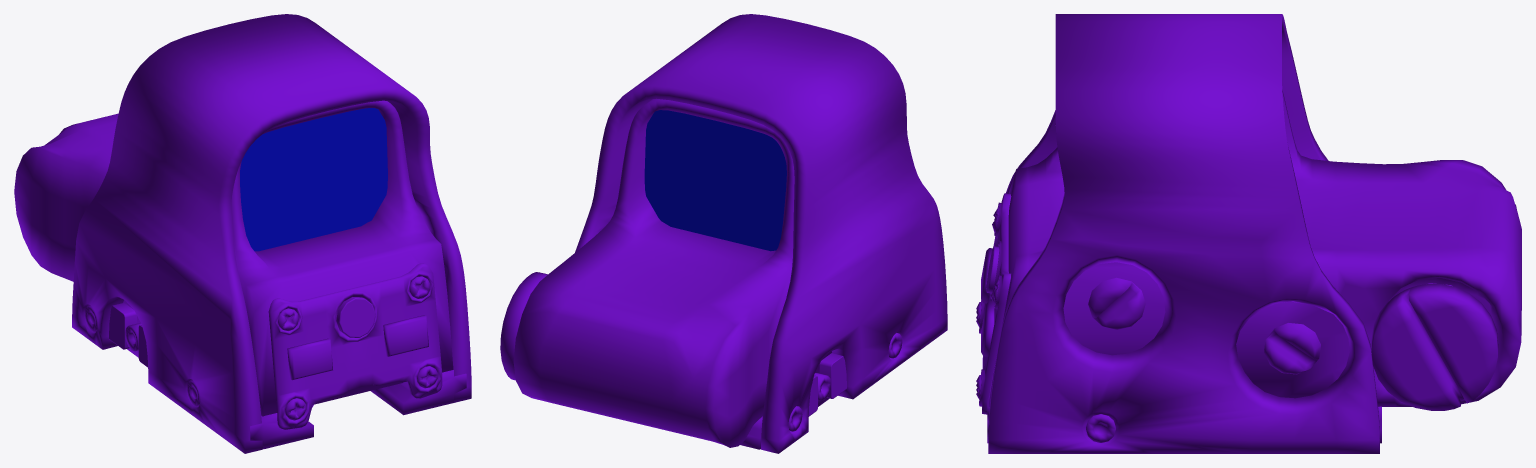
3 renders of one model, left to right at view 1: azimuth 30°, elevation 25°; view 2: azimuth 150°, elevation 25°; view 3: azimuth 270°, elevation 25°, orthographic. The views are drawn at different scales.
Parts seen in each view (by area): view 1: holo_low, lenses_low; view 2: holo_low, lenses_low; view 3: holo_low.
Boxes of the visible parts, x1,y1,x2,y2 form: holo_low: (14,14,471,453); lenses_low: (240,108,387,251); holo_low: (500,14,947,453); lenses_low: (644,110,786,251); holo_low: (976,14,1521,453).
Size of the model in its own units: 181 by 229 by 326.
